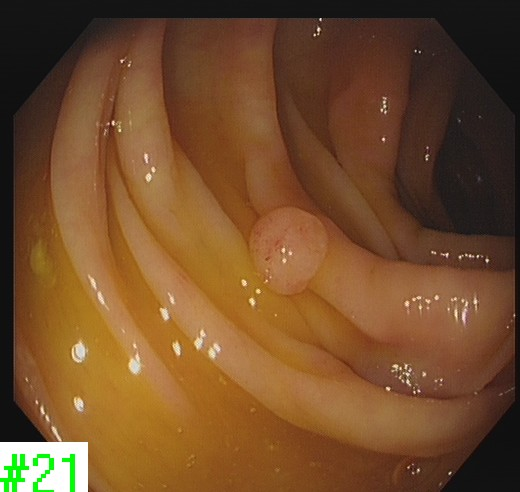adenoma: (245, 203, 332, 298)
